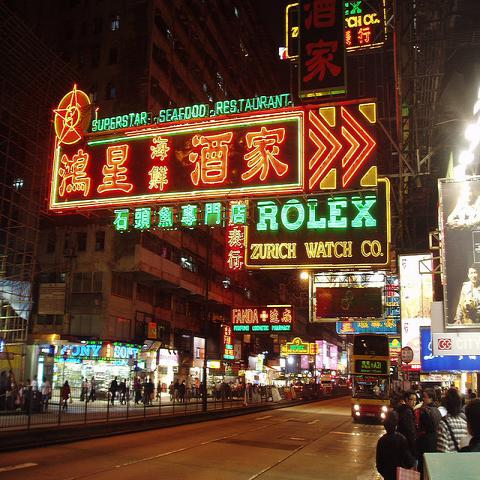bus: (352, 334, 390, 424), (95, 374, 109, 391)
